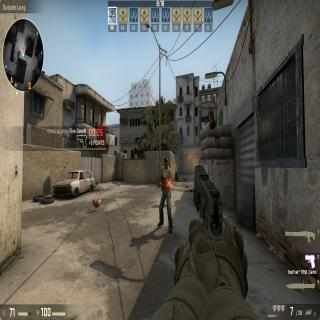T-Body: (156, 159, 174, 231)
T-Head: (163, 157, 169, 172)
